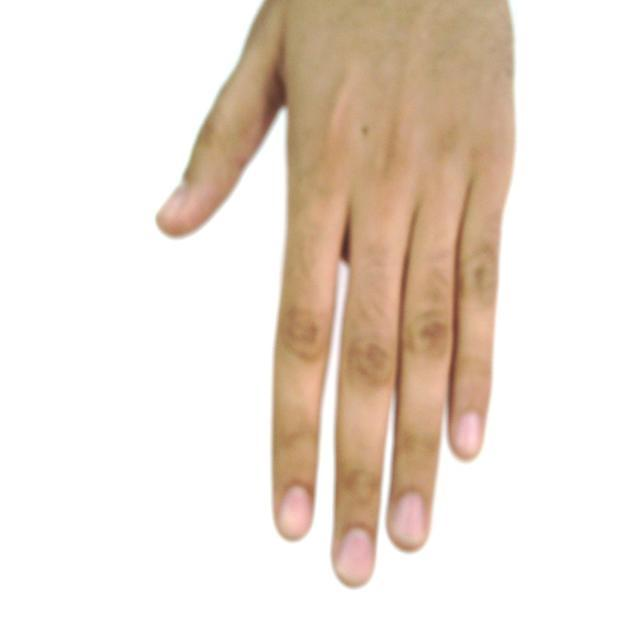Fingernail: (339, 530, 373, 585), (393, 495, 425, 546), (280, 488, 311, 538), (456, 413, 481, 454), (159, 184, 186, 217)
